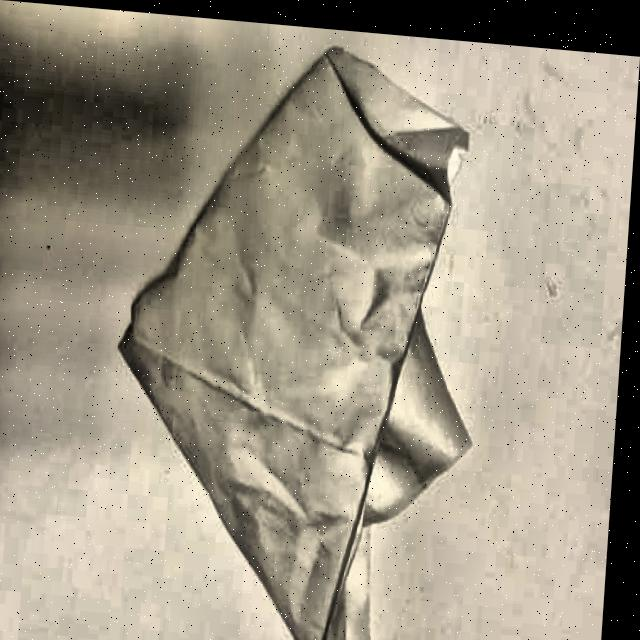paper: (99, 25, 499, 640)
